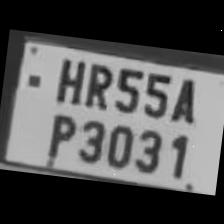0: (101, 116, 136, 170)
1: (159, 126, 194, 180)
3: (130, 122, 166, 174), (71, 112, 106, 164)
5: (108, 62, 144, 113), (138, 65, 172, 117)
A: (166, 71, 200, 126)
H: (47, 50, 87, 106)
P: (41, 107, 78, 162)
R: (80, 57, 115, 111)
